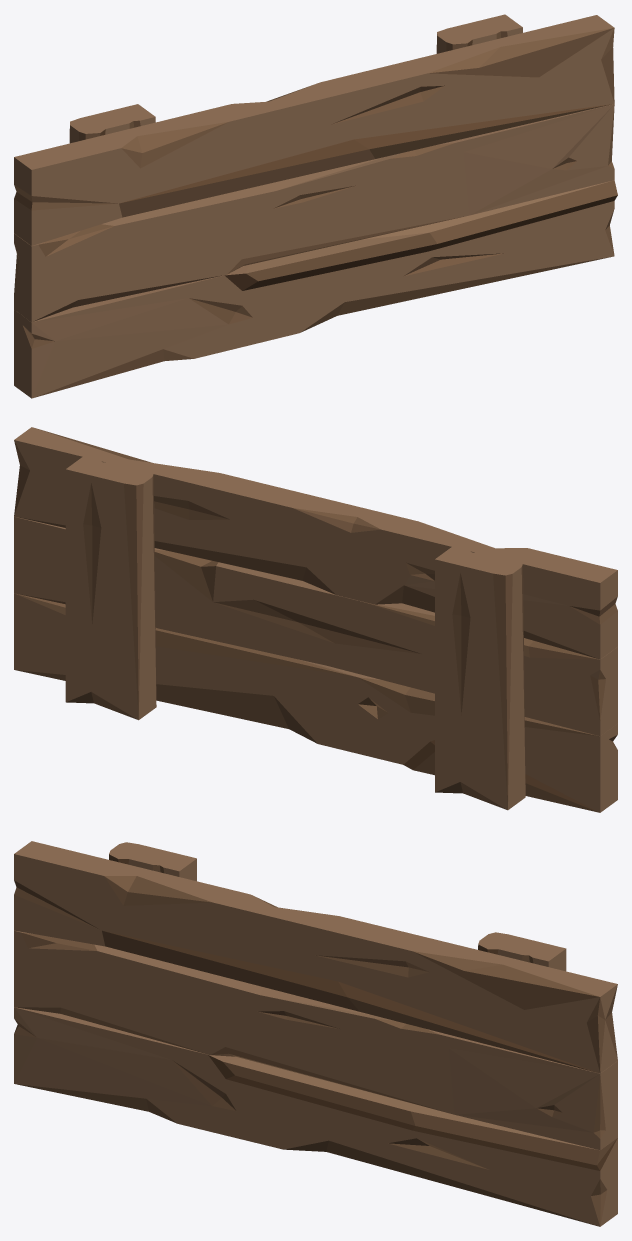
Rendered from mesh_plank_wall_half.fbx.
The picture shows the model from 3 angles, top to bottom: view 1: azimuth 30°, elevation 25°; view 2: azimuth 150°, elevation 25°; view 3: azimuth 330°, elevation 25°; orthographic projection.
Visible parts, largest first — view 1: mesh_plank_wall_half; view 2: mesh_plank_wall_half; view 3: mesh_plank_wall_half.
Boxes of the visible parts, x1,y1,x2,y2 form: mesh_plank_wall_half: (14, 14, 617, 398); mesh_plank_wall_half: (14, 427, 617, 812); mesh_plank_wall_half: (14, 841, 617, 1226).
Bounding box in the file's own units: 2 × 0.7605 × 0.245.
